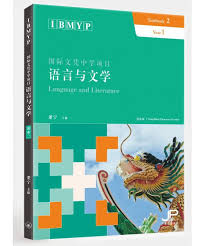book: (22, 5, 187, 239)
